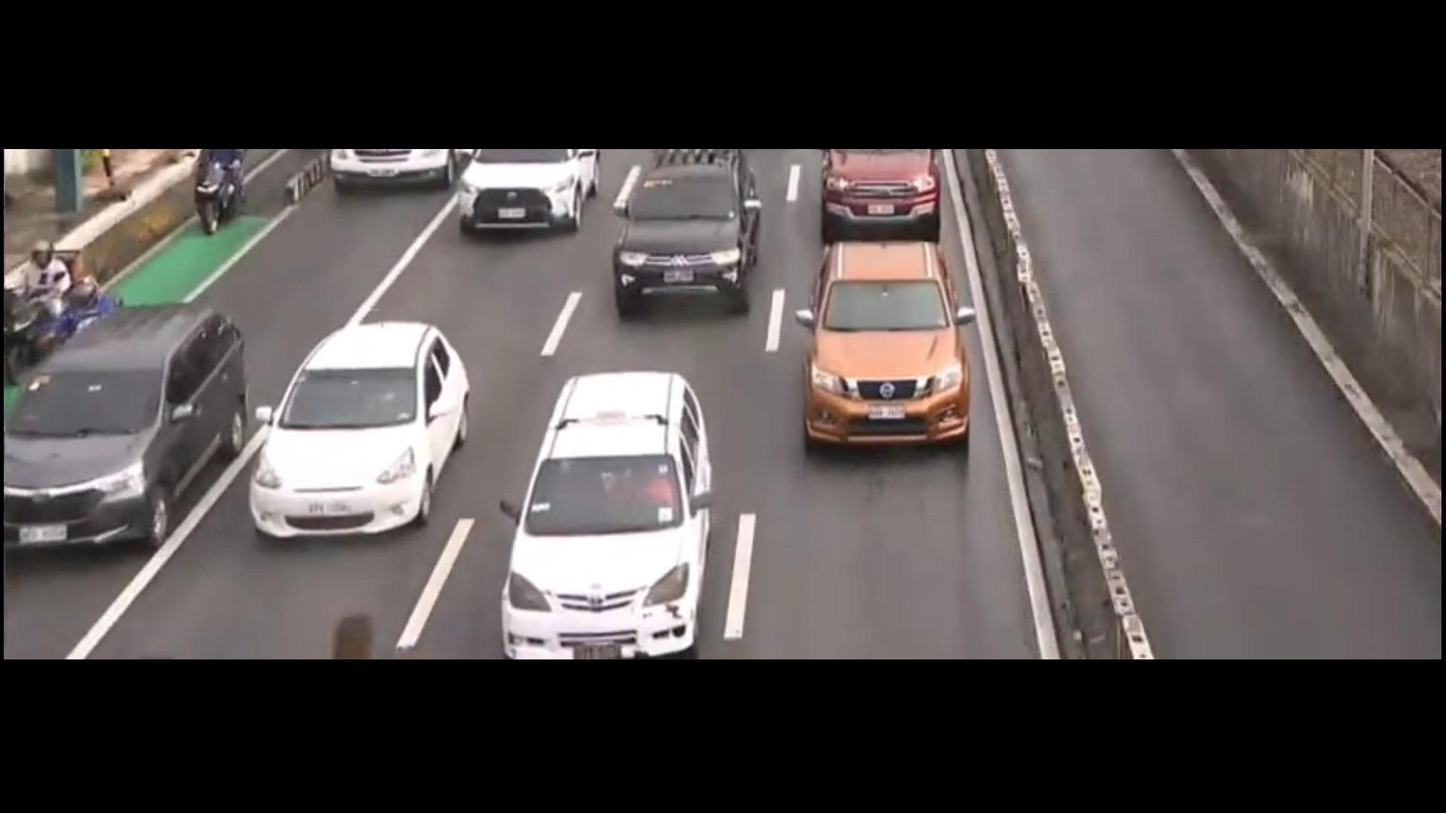Motorcycle: (0, 209, 117, 379), (179, 147, 262, 256)
SUV: (0, 277, 275, 600), (495, 360, 725, 659), (782, 209, 1017, 483), (593, 149, 778, 316)
Sedan: (239, 313, 480, 560), (456, 147, 602, 247)
